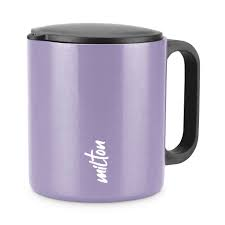mug: (12, 25, 209, 220)
